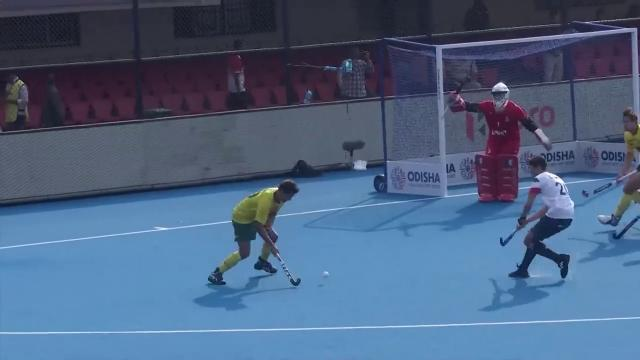ball: (320, 268, 330, 278)
